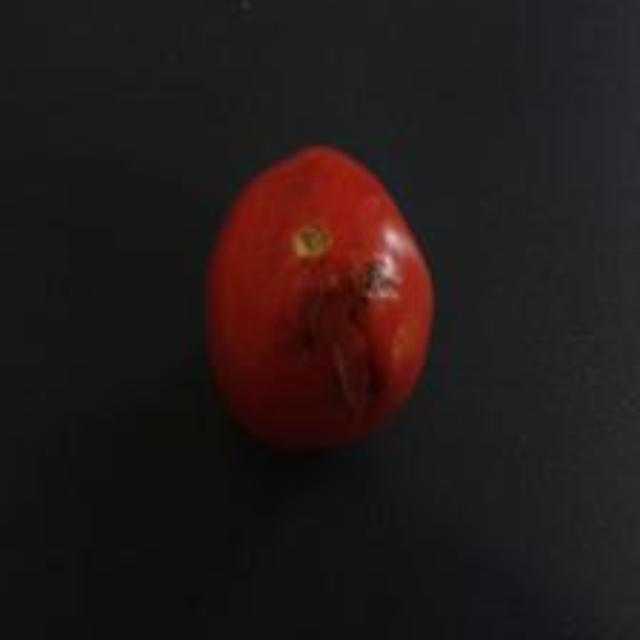defect: (200, 140, 438, 460)
